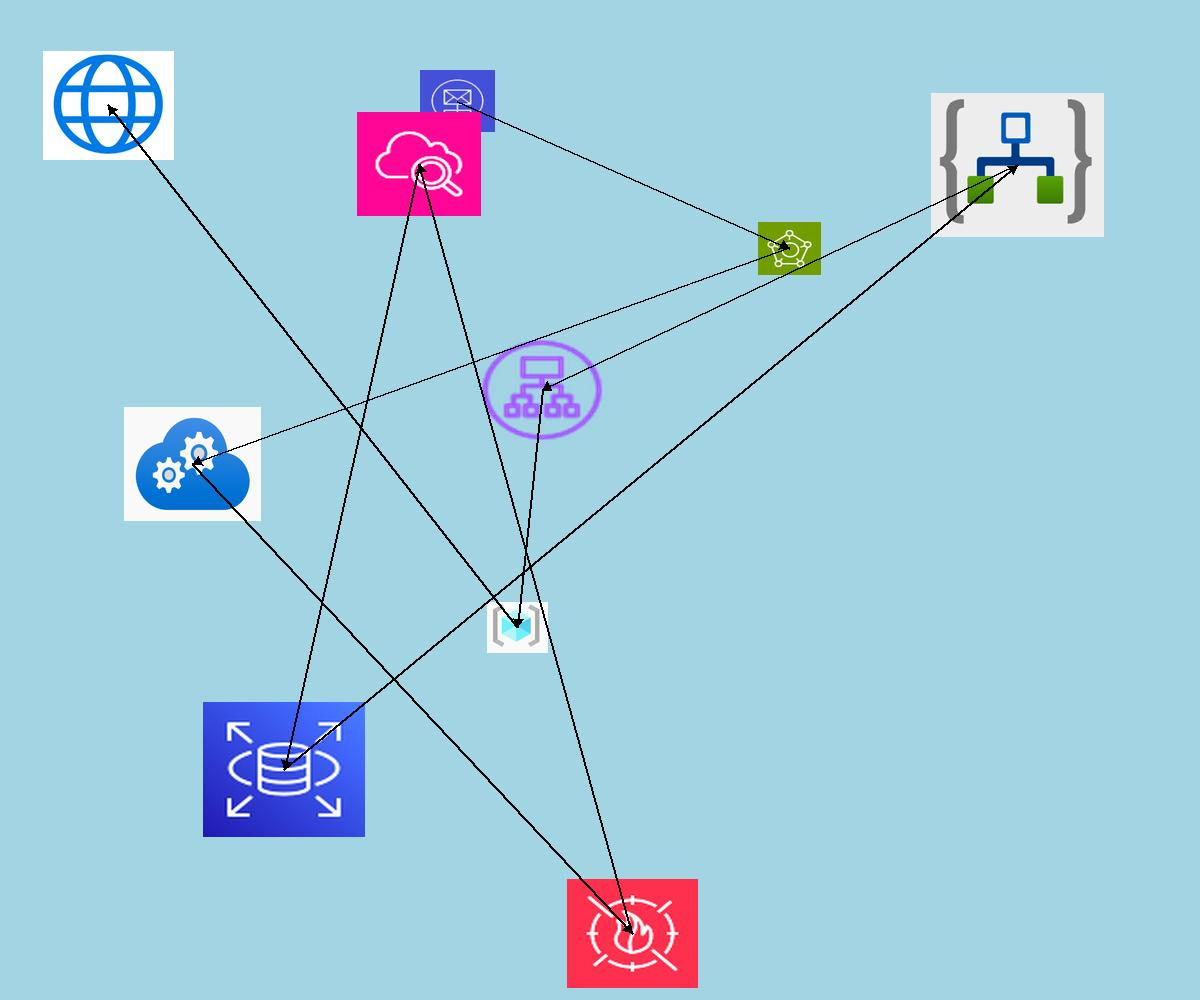AWS-Backup: (758, 222, 821, 275)
AWS-CloudWatch: (357, 112, 481, 216)
AWS-RDS: (203, 702, 365, 837)
AWS-Res_Elastic-Load-Balancing_Application-Load-Balancer: (477, 336, 607, 444)
AWS-Simple-Email-Service: (420, 70, 495, 132)
AWS-WAF: (567, 879, 698, 988)
Azure_cloud_services: (124, 407, 261, 521)
Azure_http: (43, 51, 174, 160)
Azure_integration-204-Logic-Apps: (931, 93, 1104, 237)
Azure_resource_group: (487, 602, 548, 653)
